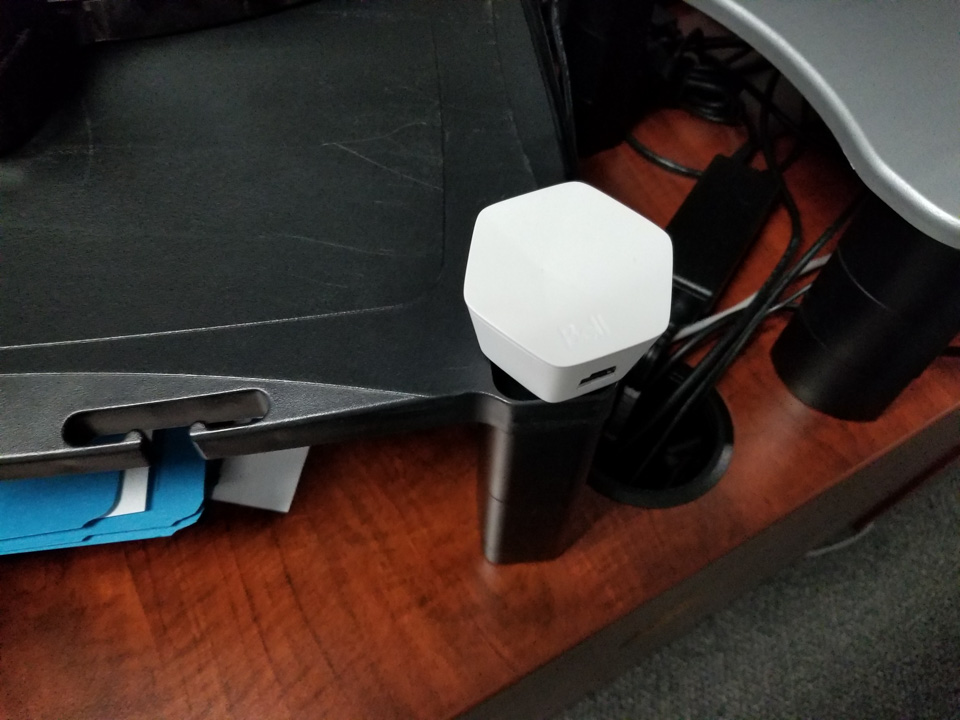pod: (459, 175, 681, 411)
